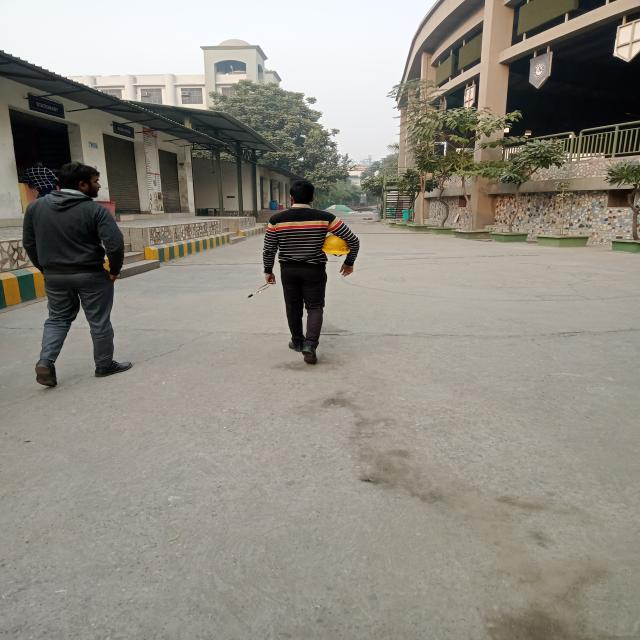unsafe: (26, 168, 134, 384), (263, 181, 360, 365)
